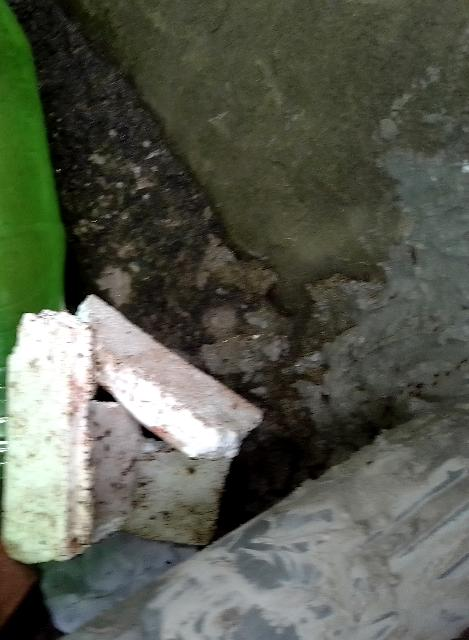cocksheet: (12, 337, 232, 564)
